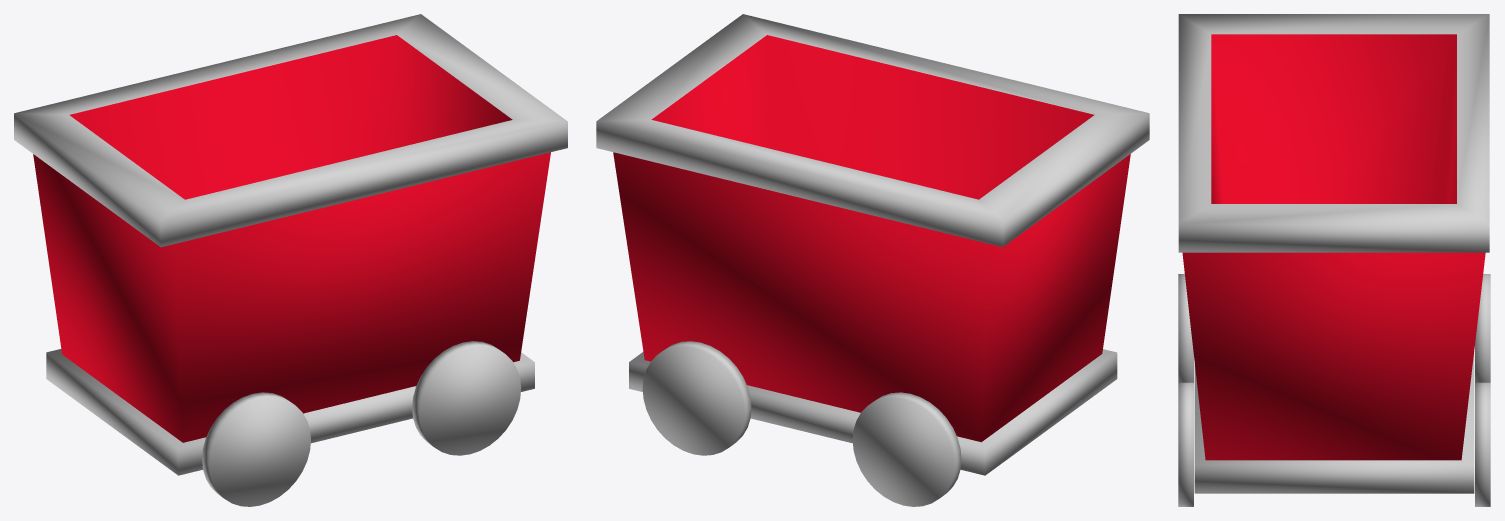
Rendered from trolley.fbx.
The picture shows the model from 3 angles, left to right: view 1: azimuth 30°, elevation 25°; view 2: azimuth 150°, elevation 25°; view 3: azimuth 270°, elevation 25°; orthographic projection. The views are drawn at different scales.
Visible parts, largest first — view 1: Body, Flame; view 2: Body, Flame; view 3: Body, Flame.
Part boxes in pixels (x1,y1,x2,y2): Body: [33, 35, 550, 442]; Flame: [14, 14, 567, 506]; Body: [613, 35, 1130, 442]; Flame: [596, 14, 1149, 506]; Body: [1182, 34, 1485, 460]; Flame: [1178, 14, 1490, 506].
Size of the model in its own units: 3.2 by 2.32 by 2.01.
